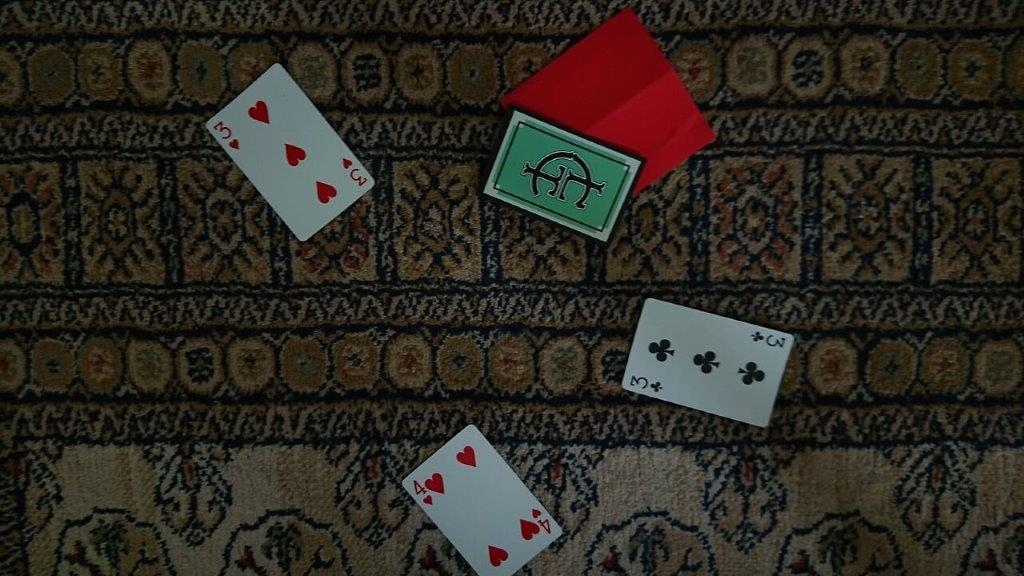3H: (211, 118, 242, 152)
4H: (409, 476, 437, 509)
